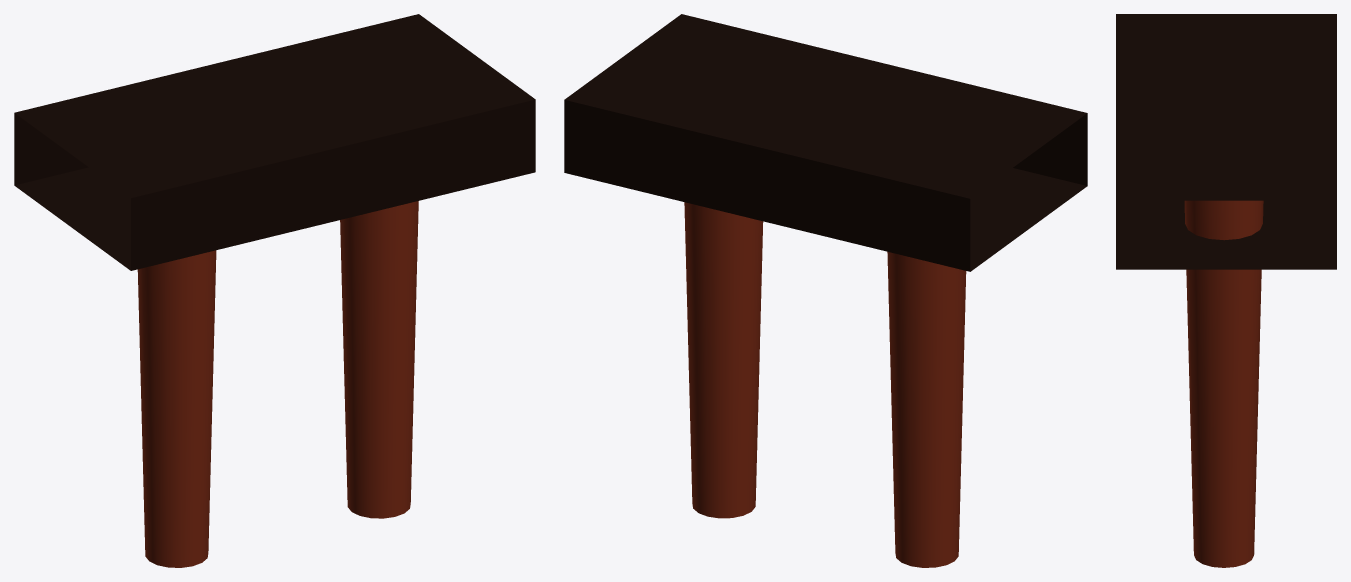
The model's file is Boat_Railing.fbx.
3 views of the same model, side by side, from view 1: azimuth 30°, elevation 25°; view 2: azimuth 150°, elevation 25°; view 3: azimuth 270°, elevation 25° (orthographic). The views are drawn at different scales.
Parts seen in each view (by area): view 1: Boat_Railing; view 2: Boat_Railing; view 3: Boat_Railing.
Boxes of the visible parts, box(x1,y1,x2,y2) form: Boat_Railing: box(14, 14, 535, 567); Boat_Railing: box(564, 14, 1087, 567); Boat_Railing: box(1116, 14, 1336, 567).
Size of the model in its own units: 1 by 0.9995 by 0.5.
Materials: 1 (1 with a texture image).
